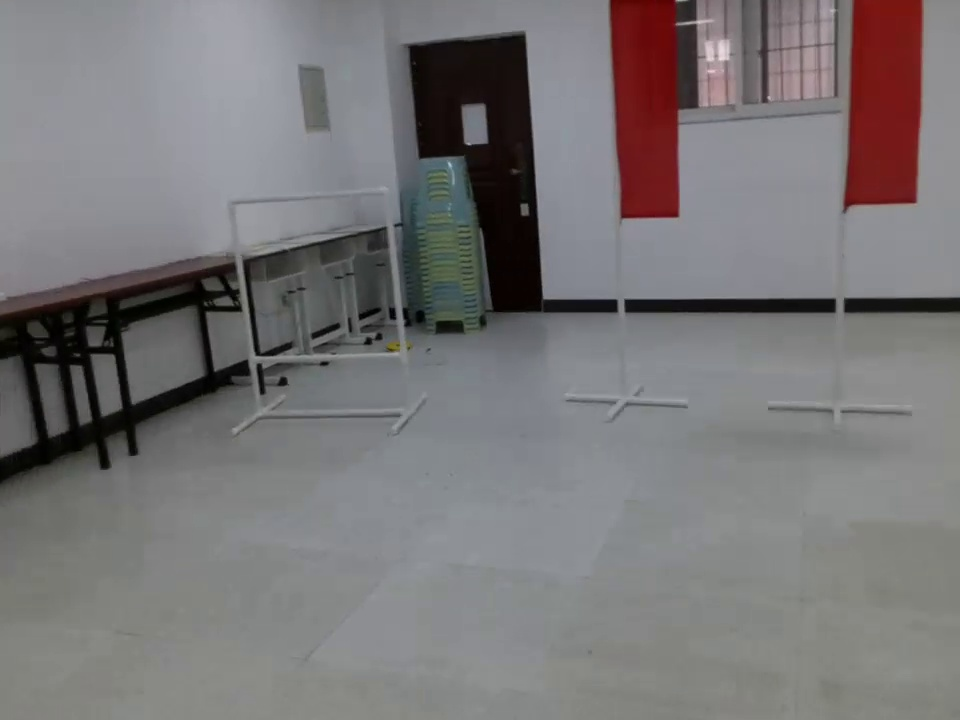qi: (835, 1, 931, 221), (603, 1, 684, 245)
